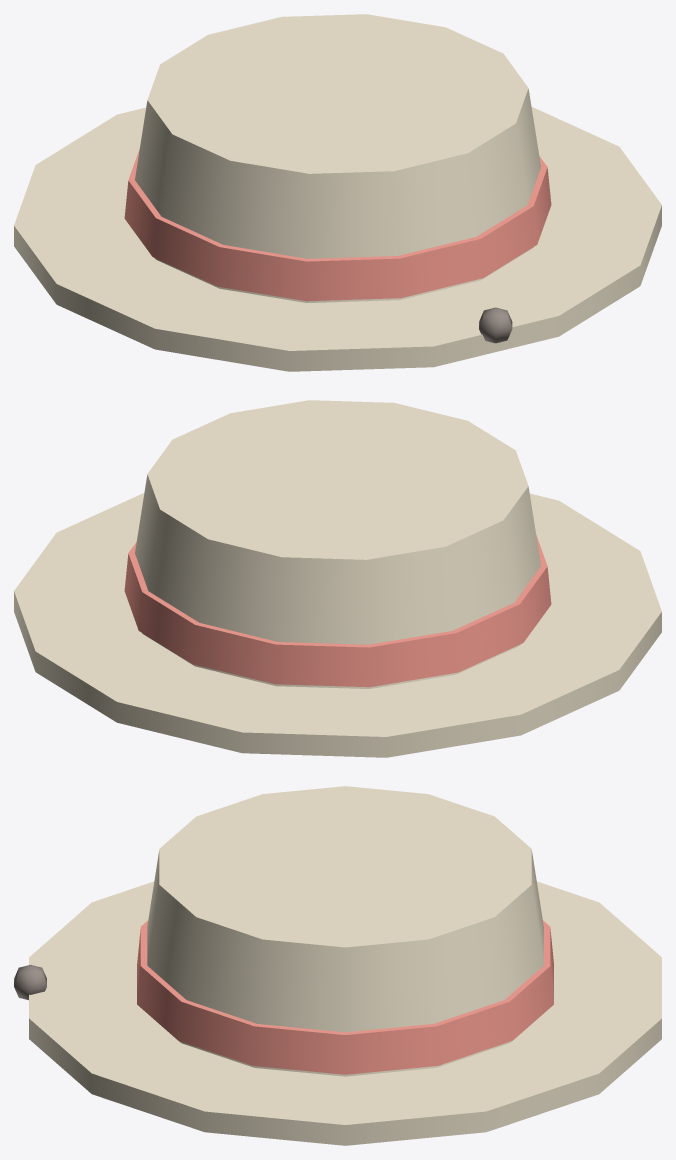
File: hat_straw.glb
3 views of the same model, one above another, from view 1: azimuth 30°, elevation 25°; view 2: azimuth 150°, elevation 25°; view 3: azimuth 270°, elevation 25° (orthographic).
Parts seen in each view (by area): view 1: hat_straw; view 2: hat_straw; view 3: hat_straw.
Part boxes in pixels (x1,y1,x2,y2): hat_straw: (14, 14, 661, 371); hat_straw: (14, 400, 661, 757); hat_straw: (14, 786, 661, 1145).
Bounding box in the file's own units: 34 × 8.2 × 33.94.
